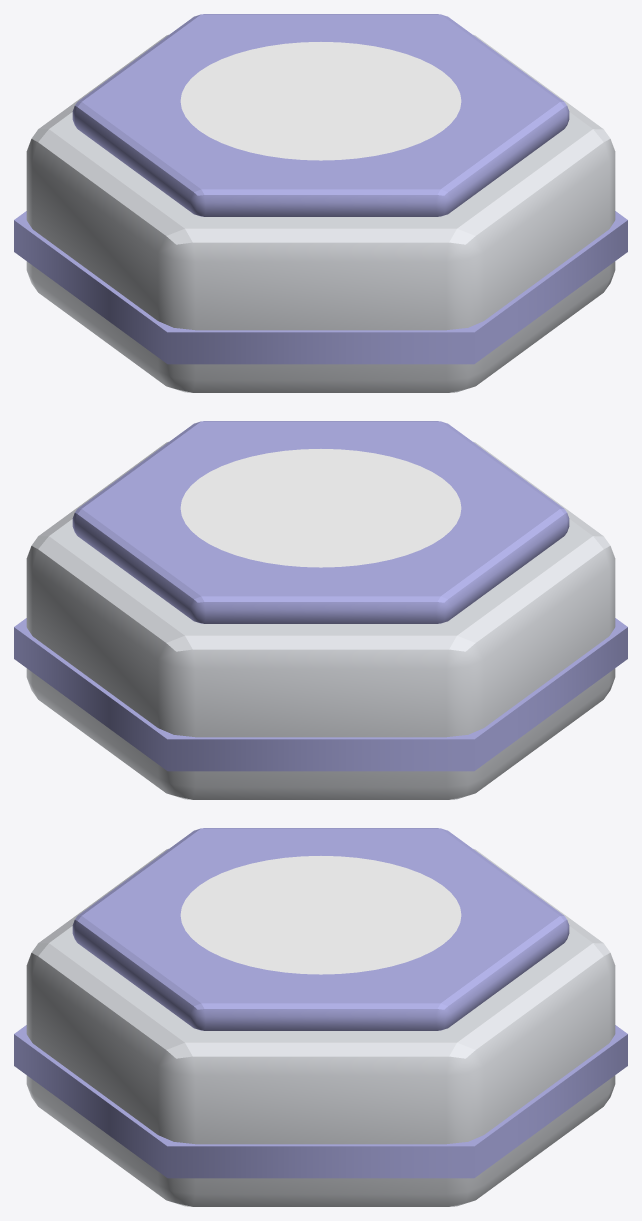
File: cache.glb
3 renders of one model, top to bottom at view 1: azimuth 30°, elevation 25°; view 2: azimuth 150°, elevation 25°; view 3: azimuth 270°, elevation 25°, orthographic.
Parts seen in each view (by area): view 1: cache_body, cache_top, cache_logo, cache_band; view 2: cache_body, cache_top, cache_logo, cache_band; view 3: cache_body, cache_top, cache_logo, cache_band.
Part boxes in pixels (<box>): cache_body: <box>26,34,615,392</box>; cache_top: <box>72,14,569,216</box>; cache_logo: <box>180,42,461,160</box>; cache_band: <box>14,211,627,364</box>; cache_body: <box>26,441,615,799</box>; cache_top: <box>72,421,569,623</box>; cache_logo: <box>180,449,461,567</box>; cache_band: <box>14,618,627,771</box>; cache_body: <box>26,848,615,1206</box>; cache_top: <box>72,828,569,1030</box>; cache_logo: <box>180,856,461,974</box>; cache_band: <box>14,1025,627,1178</box>.
Size of the model in its own units: 1.06 by 0.4215 by 1.22.
